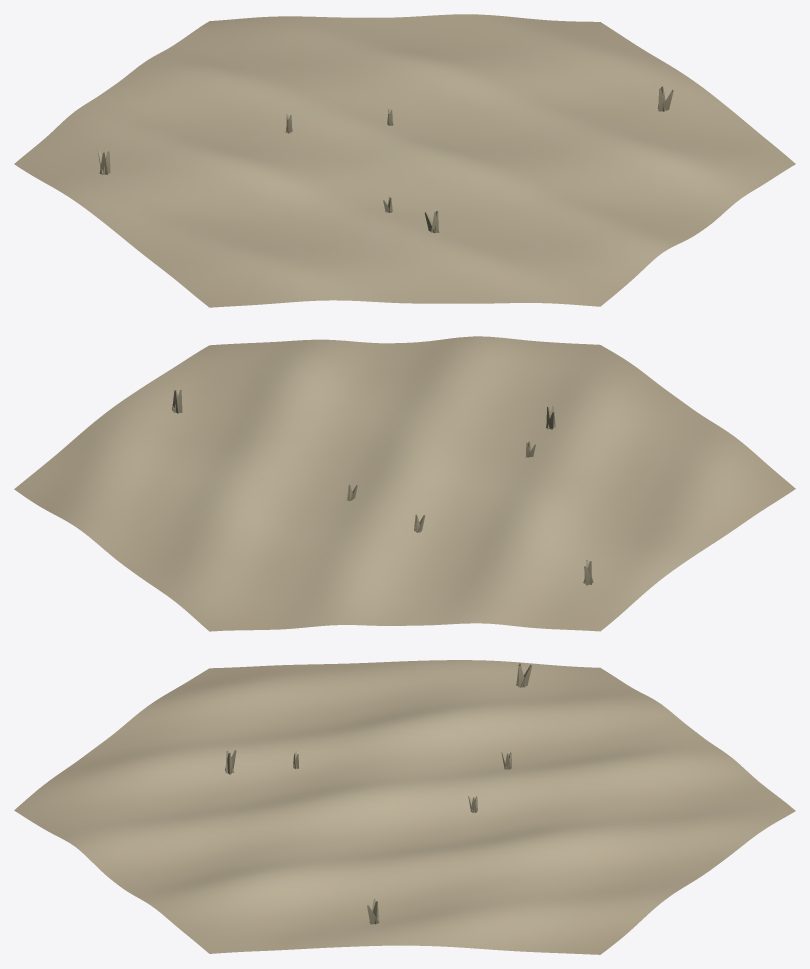
Rendered from terrain_desert.glb.
The picture shows the model from 3 angles, top to bottom: view 1: azimuth 30°, elevation 25°; view 2: azimuth 150°, elevation 25°; view 3: azimuth 270°, elevation 25°; orthographic projection.
Visible parts, largest first — view 1: desert_ground; view 2: desert_ground; view 3: desert_ground.
Part boxes in pixels (x1=…): desert_ground: x1=14, y1=14, x2=795, y2=307; desert_ground: x1=14, y1=336, x2=795, y2=631; desert_ground: x1=14, y1=660, x2=795, y2=954.
Bounding box in the file's own units: 1.52 × 0.0791 × 1.76.
